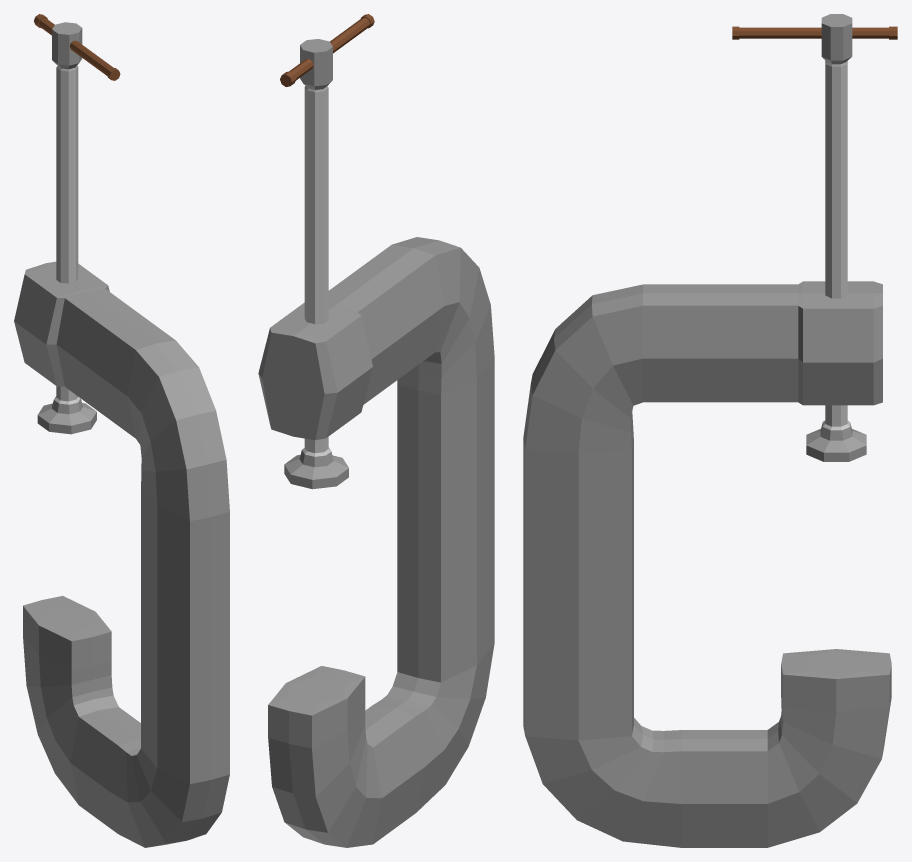
Rendered from clamp01.gltf.
The picture shows the model from 3 angles, left to right: view 1: azimuth 30°, elevation 25°; view 2: azimuth 150°, elevation 25°; view 3: azimuth 270°, elevation 25°; orthographic projection. The views are drawn at different scales.
Visible parts, largest first — view 1: Cylinder.001; view 2: Cylinder.001; view 3: Cylinder.001.
Part boxes in pixels (x1,y1,x2,y2): Cylinder.001: (14,14,229,847); Cylinder.001: (258,14,494,847); Cylinder.001: (523,14,897,847).
Bounding box in the file's own units: 0.0358 × 0.3537 × 0.1467.
Materials: 1 (1 with a texture image).
